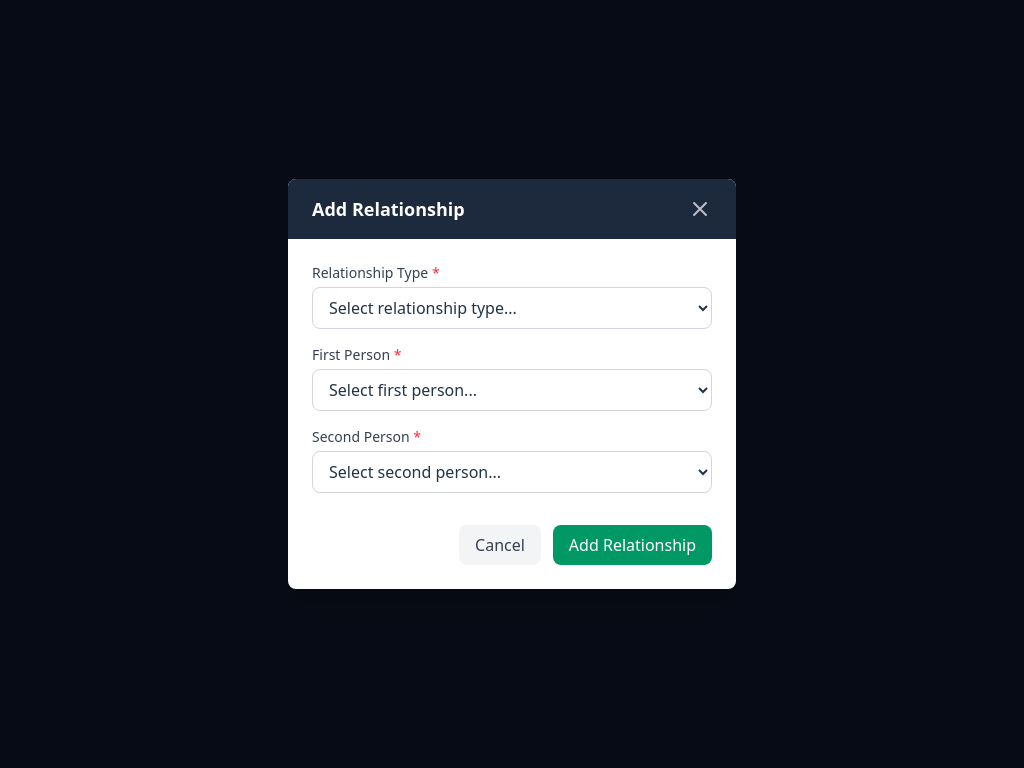
Test: AddRelationshipModal › validation › shows error for future marriage date
Select "Spouse" in the dropdown labelled "Relationship Type *" at point(512, 308), box 312,287 -> 712,329
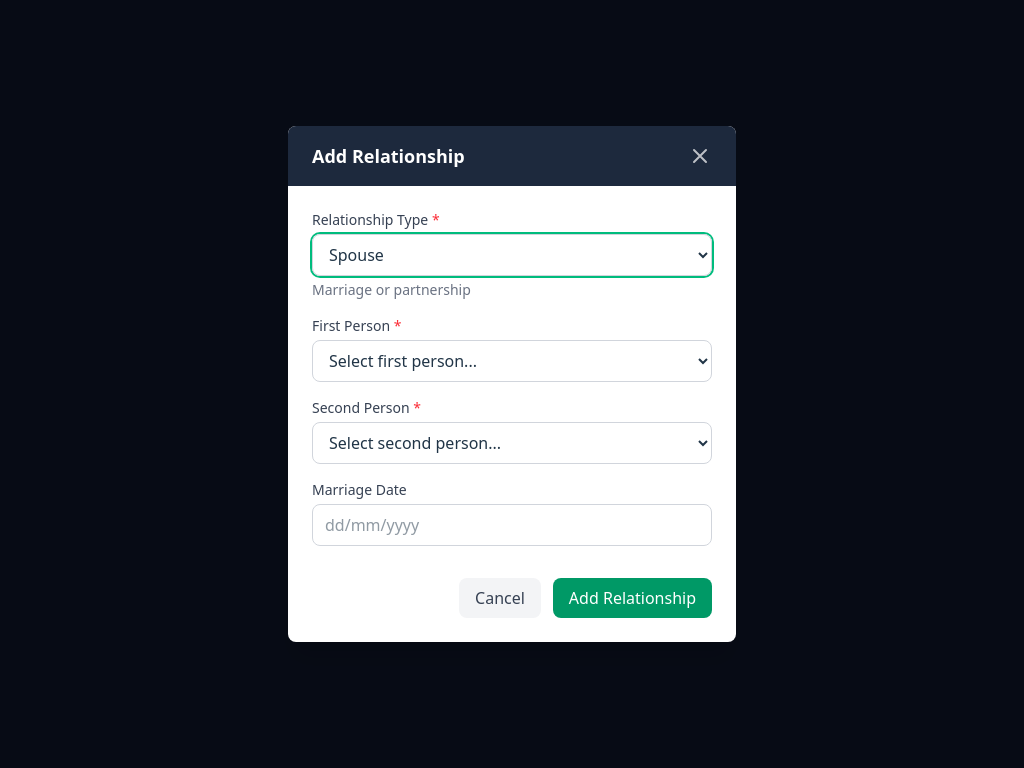
Select "John Smith (b. 1960)" in the dropdown labelled "First Person *" at point(512, 361), box 312,340 -> 712,382
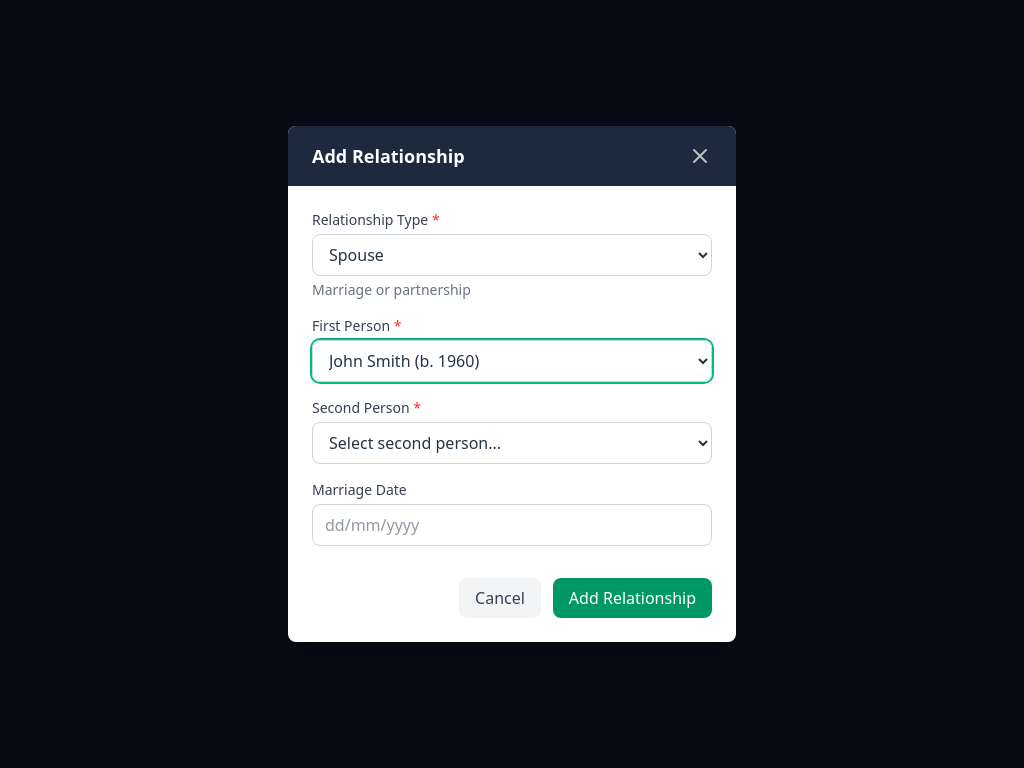
Select "Jane Smith (b. 1962)" in the dropdown labelled "Second Person *" at point(512, 443), box 312,422 -> 712,464
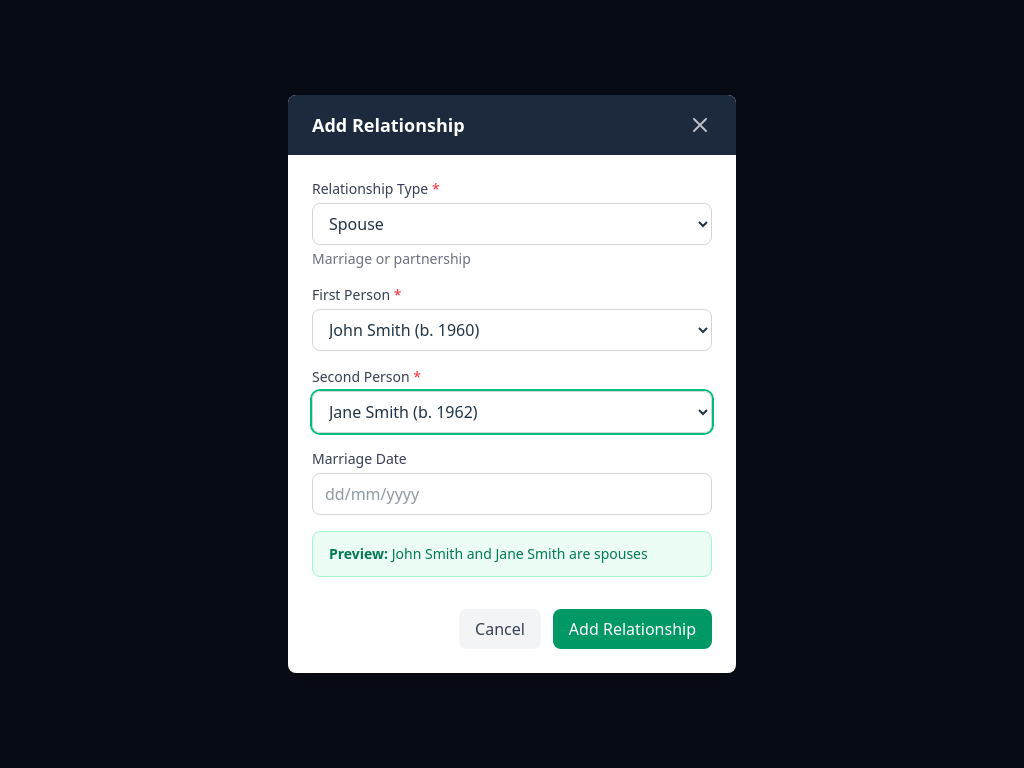
Type "01/01/2099" into the field labelled "Marriage Date".
click(512, 494); type("01/01/2099")  # box 312,473 -> 712,515
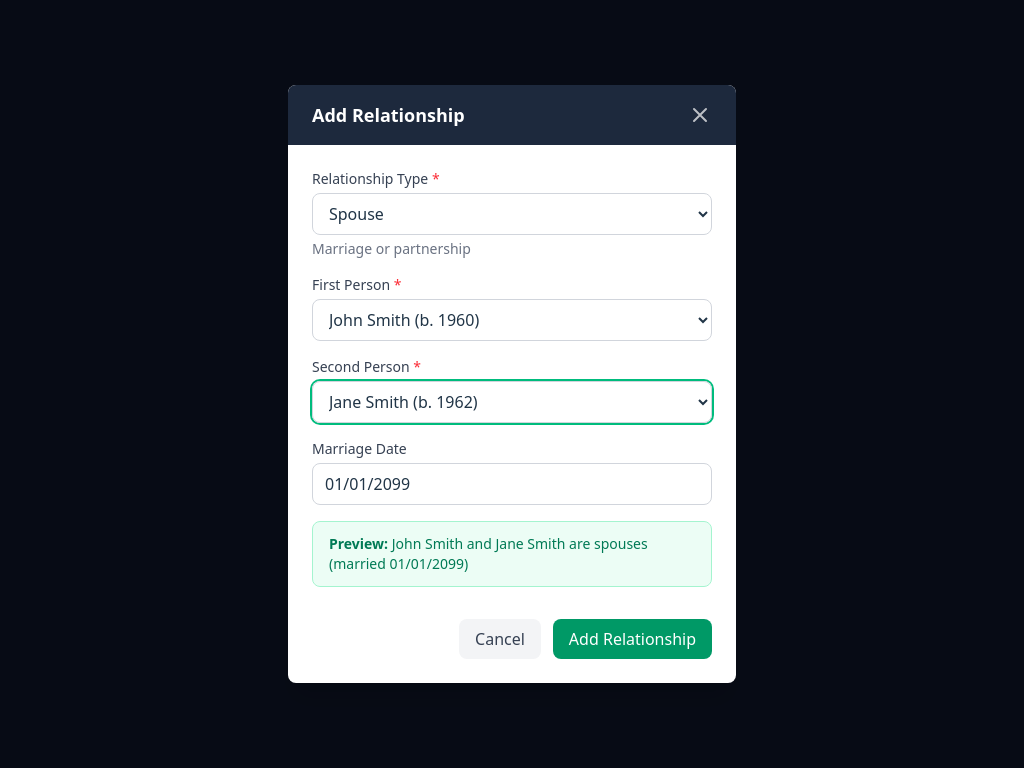
Click the button "Add Relationship".
click(632, 639)  # box 553,619 -> 712,659
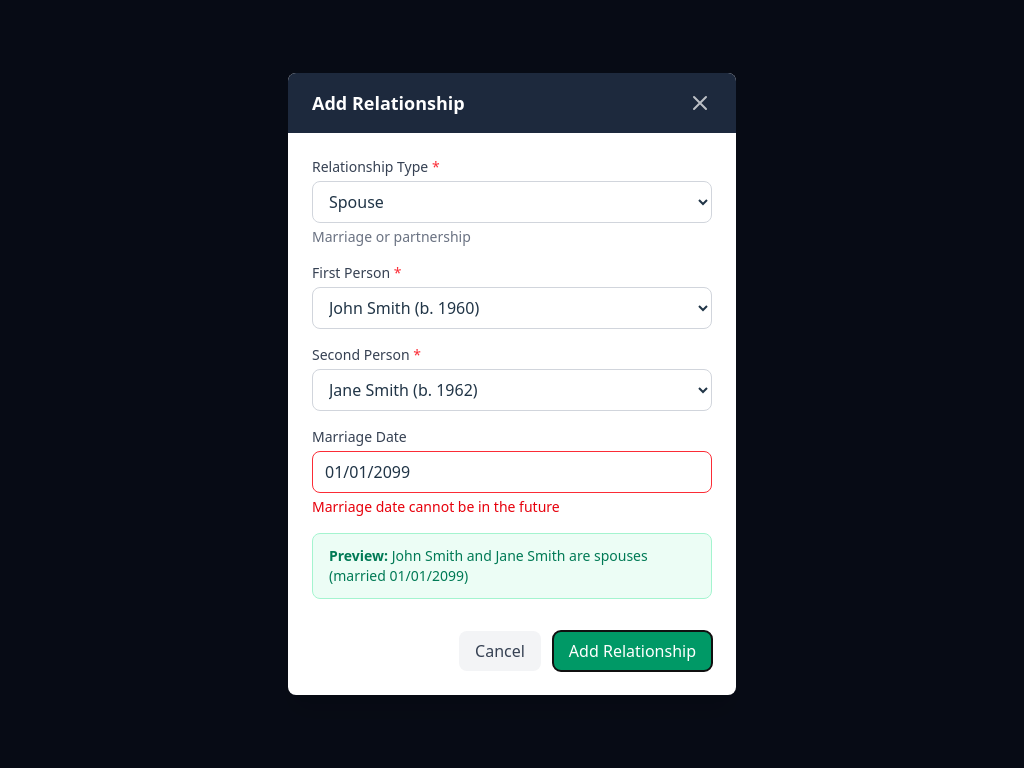
expect the text "Marriage date cannot be in the future" is shown: met, box 312,497 -> 560,516
